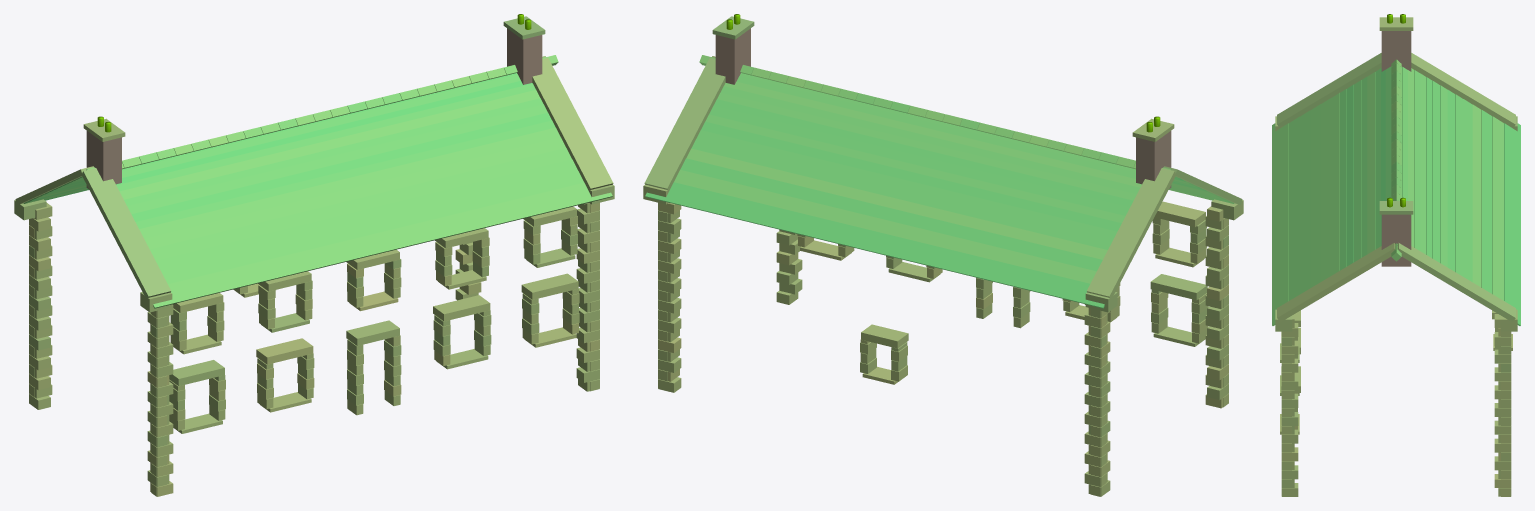
The model's file is SM_Bld_162_Stone.glb.
3 renders of one model, left to right at view 1: azimuth 30°, elevation 25°; view 2: azimuth 150°, elevation 25°; view 3: azimuth 270°, elevation 25°, orthographic. The views are drawn at different scales.
Parts seen in each view (by area): view 1: SM_Bld_162_Stone; view 2: SM_Bld_162_Stone; view 3: SM_Bld_162_Stone.
Part boxes in pixels (bbox=[...]): SM_Bld_162_Stone: bbox=[14, 14, 614, 496]; SM_Bld_162_Stone: bbox=[643, 14, 1243, 496]; SM_Bld_162_Stone: bbox=[1272, 14, 1520, 496].
Size of the model in its own units: 15 by 9.89 by 7.61.
